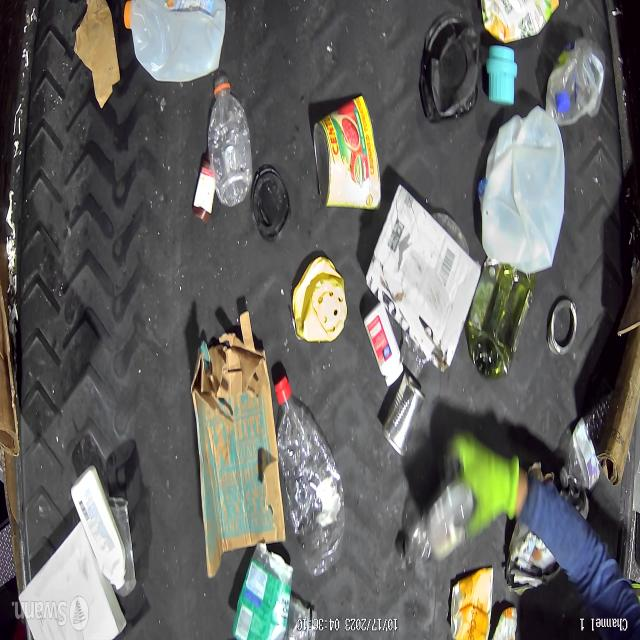can: (312, 94, 381, 212), (382, 371, 425, 456)
milk_jug: (478, 104, 565, 271), (126, 0, 226, 83)
plastic_bottle: (274, 379, 346, 576), (206, 70, 253, 209), (400, 477, 474, 565)
